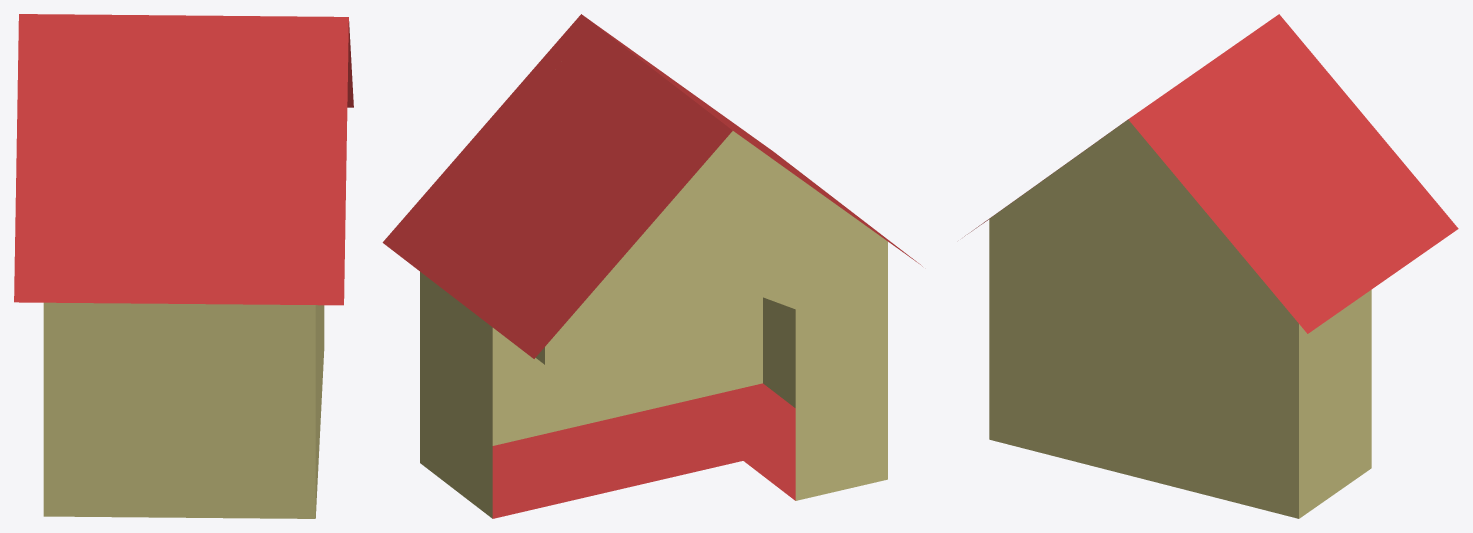
3 views of the same model, side by side, from view 1: azimuth 30°, elevation 25°; view 2: azimuth 150°, elevation 25°; view 3: azimuth 270°, elevation 25° (orthographic). The views are drawn at different scales.
Size of the model in its own units: 13.62 by 14.83 by 11.95.
